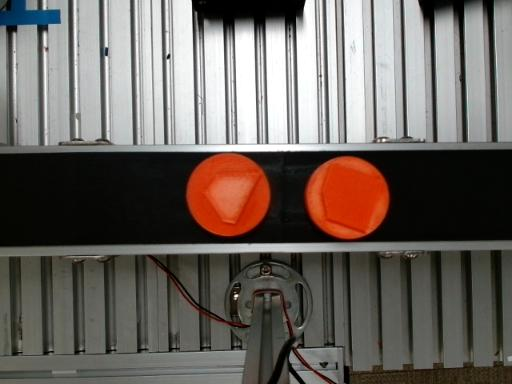Not_Square: (320, 162, 384, 233), (204, 172, 263, 224)
Orange_Waper: (305, 156, 390, 239), (186, 154, 270, 236)
